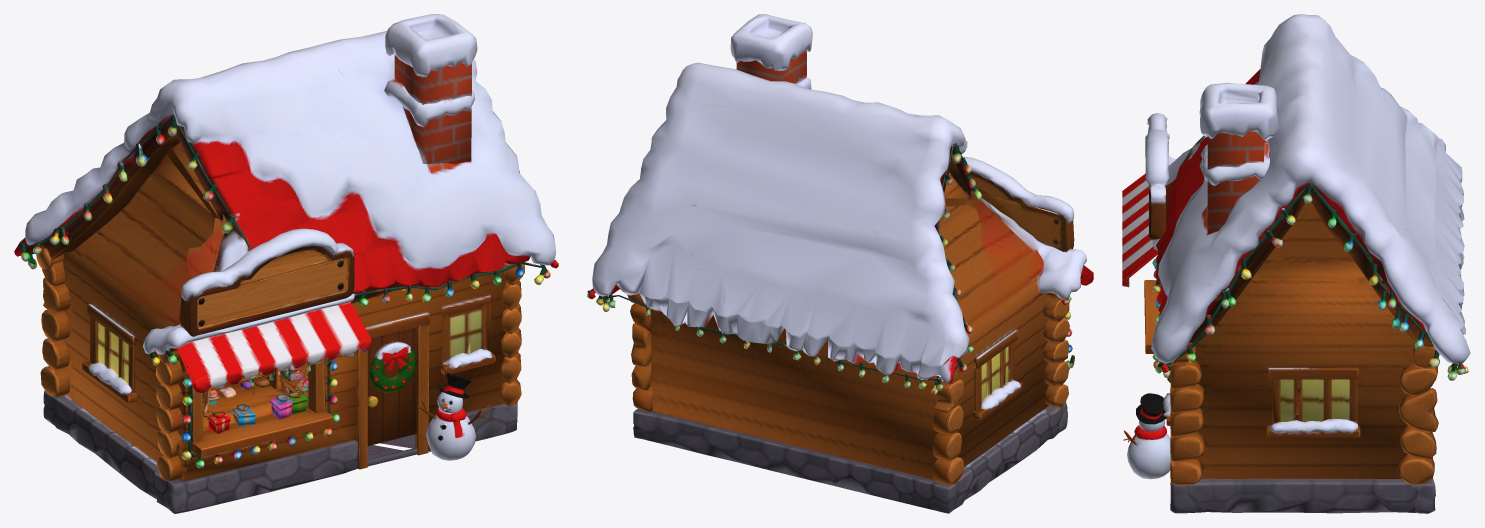
File: cottage_shop.glb
3 views of the same model, side by side, from view 1: azimuth 30°, elevation 25°; view 2: azimuth 150°, elevation 25°; view 3: azimuth 270°, elevation 25° (orthographic). The views are drawn at different scales.
Size of the model in its own units: 0.9492 by 0.8867 by 0.7095.
Materials: 1 (1 with a texture image).
